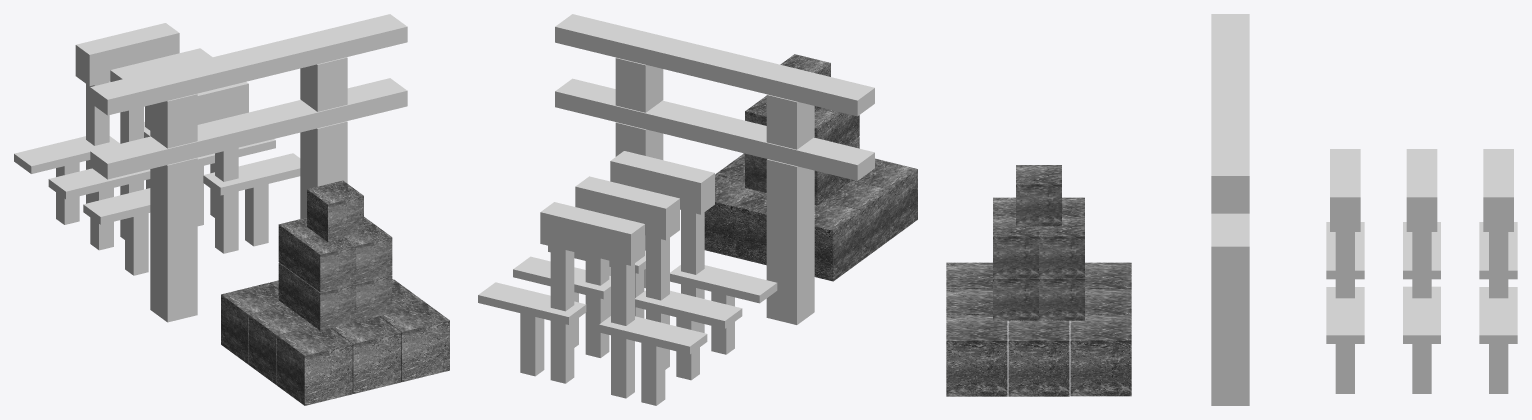
The picture shows the model from 3 angles, left to right: view 1: azimuth 30°, elevation 25°; view 2: azimuth 150°, elevation 25°; view 3: azimuth 270°, elevation 25°; orthographic projection. The views are drawn at different scales.
Parts seen in each view (by area): view 1: Cube.023, Cube.019, Cube.021, Cube.006, Cube.050, Cube.007, Cube.008, Cube.018, Cube.017, Cube.013, Cube.005, Cube.004 (+24 smaller); view 2: Cube.023, Cube.019, Cube.021, Cube.050, Cube.049, Cube.048, Cube.005, Cube.004, Cube.006, Cube.002, Cube.030, Cube.035 (+26 smaller); view 3: Cube.023, Cube.018, Cube.002, Cube.007, Cube.003, Cube.017, Cube.049, Cube.014, Cube.016, Cube.048, Cube.050, Cube.031 (+19 smaller).
Part boxes in pixels (box(x1,y1,x2,y2)): Cube.023: box(90, 14, 407, 115); Cube.019: box(90, 78, 407, 179); Cube.021: box(150, 158, 197, 322); Cube.006: box(277, 326, 352, 405); Cube.050: box(75, 23, 179, 86); Cube.007: box(380, 300, 449, 381); Cube.008: box(331, 316, 401, 393); Cube.018: box(300, 121, 347, 218); Cube.017: box(307, 180, 363, 241); Cube.013: box(299, 235, 356, 292); Cube.005: box(221, 282, 285, 364); Cube.004: box(249, 306, 313, 385); Cube.023: box(555, 14, 874, 116); Cube.019: box(555, 78, 874, 180); Cube.021: box(766, 159, 814, 324); Cube.050: box(540, 202, 644, 265); Cube.049: box(575, 176, 679, 240); Cube.048: box(610, 151, 714, 214); Cube.005: box(814, 201, 861, 281); Cube.004: box(824, 180, 889, 260); Cube.006: box(852, 158, 917, 239); Cube.002: box(704, 175, 757, 257); Cube.030: box(599, 316, 707, 354); Cube.035: box(670, 265, 777, 303); Cube.023: box(1211, 14, 1249, 193); Cube.018: box(1211, 264, 1249, 405); Cube.002: box(1070, 314, 1131, 396); Cube.007: box(946, 315, 1007, 396); Cube.003: box(1008, 320, 1069, 396); Cube.017: box(1016, 165, 1061, 226); Cube.049: box(1406, 149, 1437, 231); Cube.014: box(993, 217, 1038, 278); Cube.016: box(1039, 217, 1084, 278); Cube.048: box(1330, 149, 1360, 231); Cube.050: box(1483, 149, 1513, 231); Cube.031: box(1479, 287, 1517, 343).
Bounding box in the file's own units: 5 × 3.78 × 7.46.
1 material, 1 textured.
